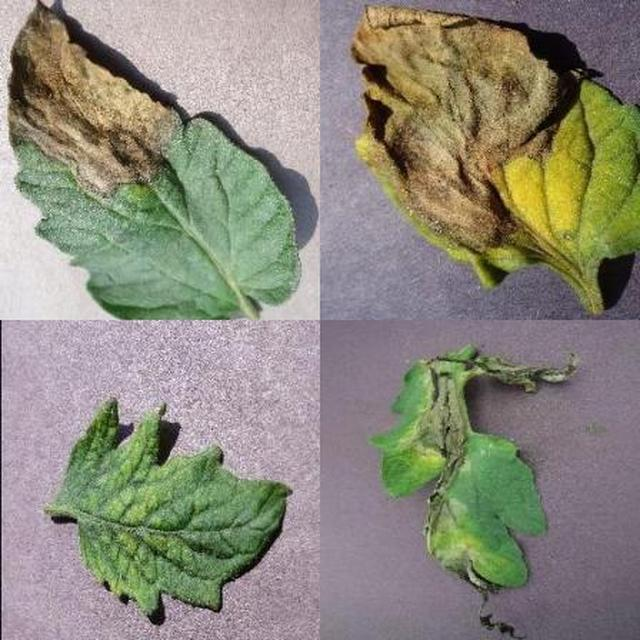Late Blight Leaf: (221, 204, 640, 640)
